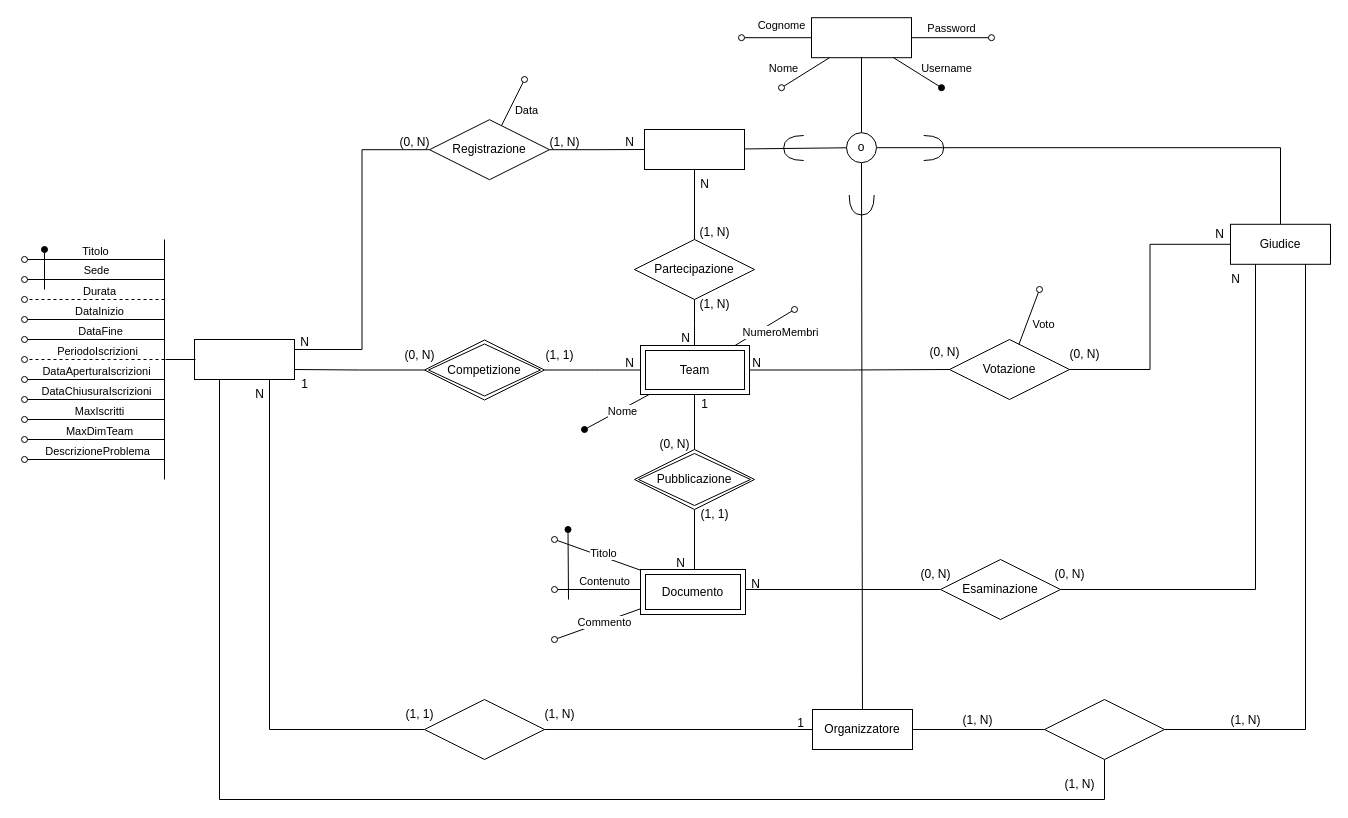
This 1348x818 diagram has some shape labels left out. The centre of each missing label's shape, as x and y in pixels:
"Hackathon" belongs at pixel 244 359.
"Organizzazione" belongs at pixel 484 729.
"Partecipante" belongs at pixel 694 149.
"Selezione" belongs at pixel 1104 729.
"Utente" belongs at pixel 861 37.
